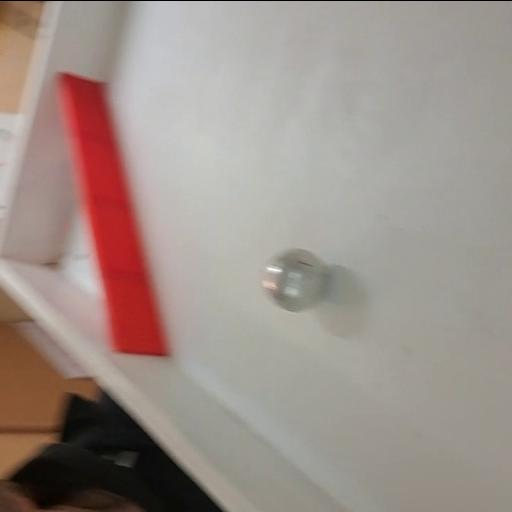alive: (258, 246, 336, 318)
